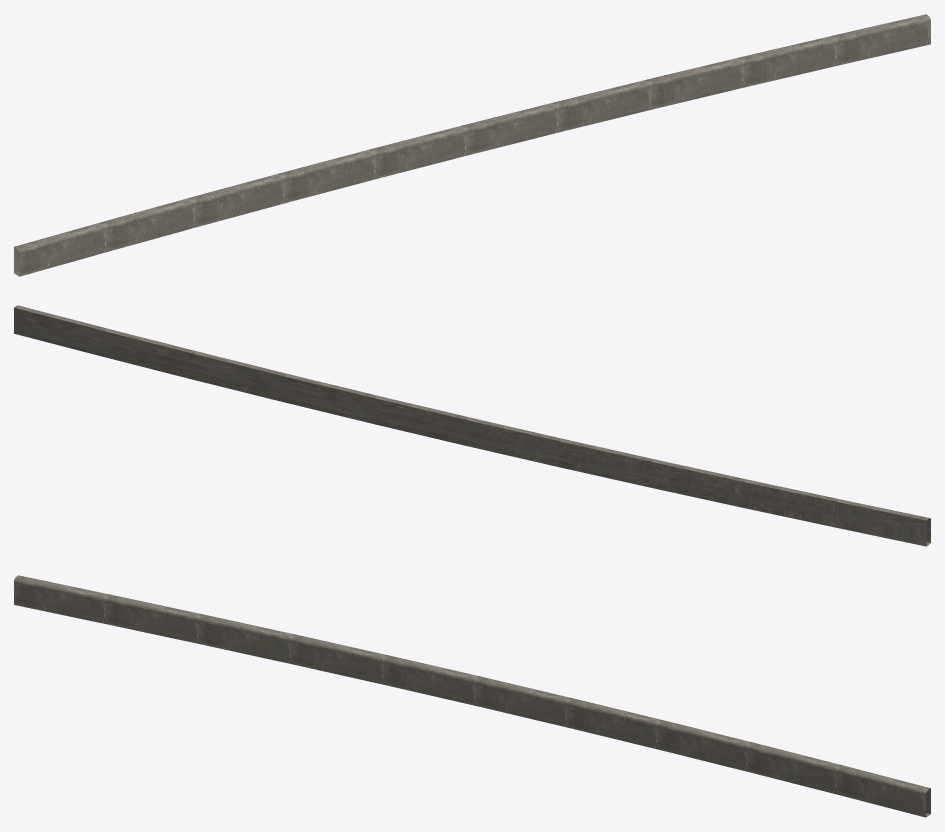
Rendered from SM_Curb_09.glb.
3 views of the same model, one above another, from view 1: azimuth 30°, elevation 25°; view 2: azimuth 150°, elevation 25°; view 3: azimuth 330°, elevation 25° (orthographic). The views are drawn at different scales.
Visible parts, largest first — view 1: SM_Curb_09; view 2: SM_Curb_09; view 3: SM_Curb_09.
Part boxes in pixels (x1,y1,x2,y2): SM_Curb_09: (14,14,930,276); SM_Curb_09: (14,305,930,546); SM_Curb_09: (14,575,930,817).
Size of the model in its own units: 2728 by 75.02 by 91.97.
Materials: 1 (1 with a texture image).
